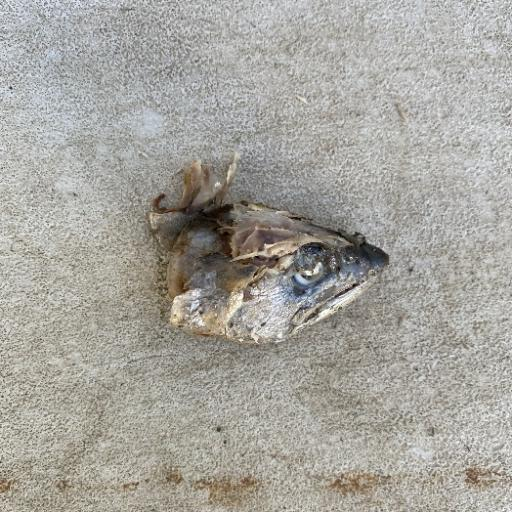Waste: (144, 151, 390, 347)
